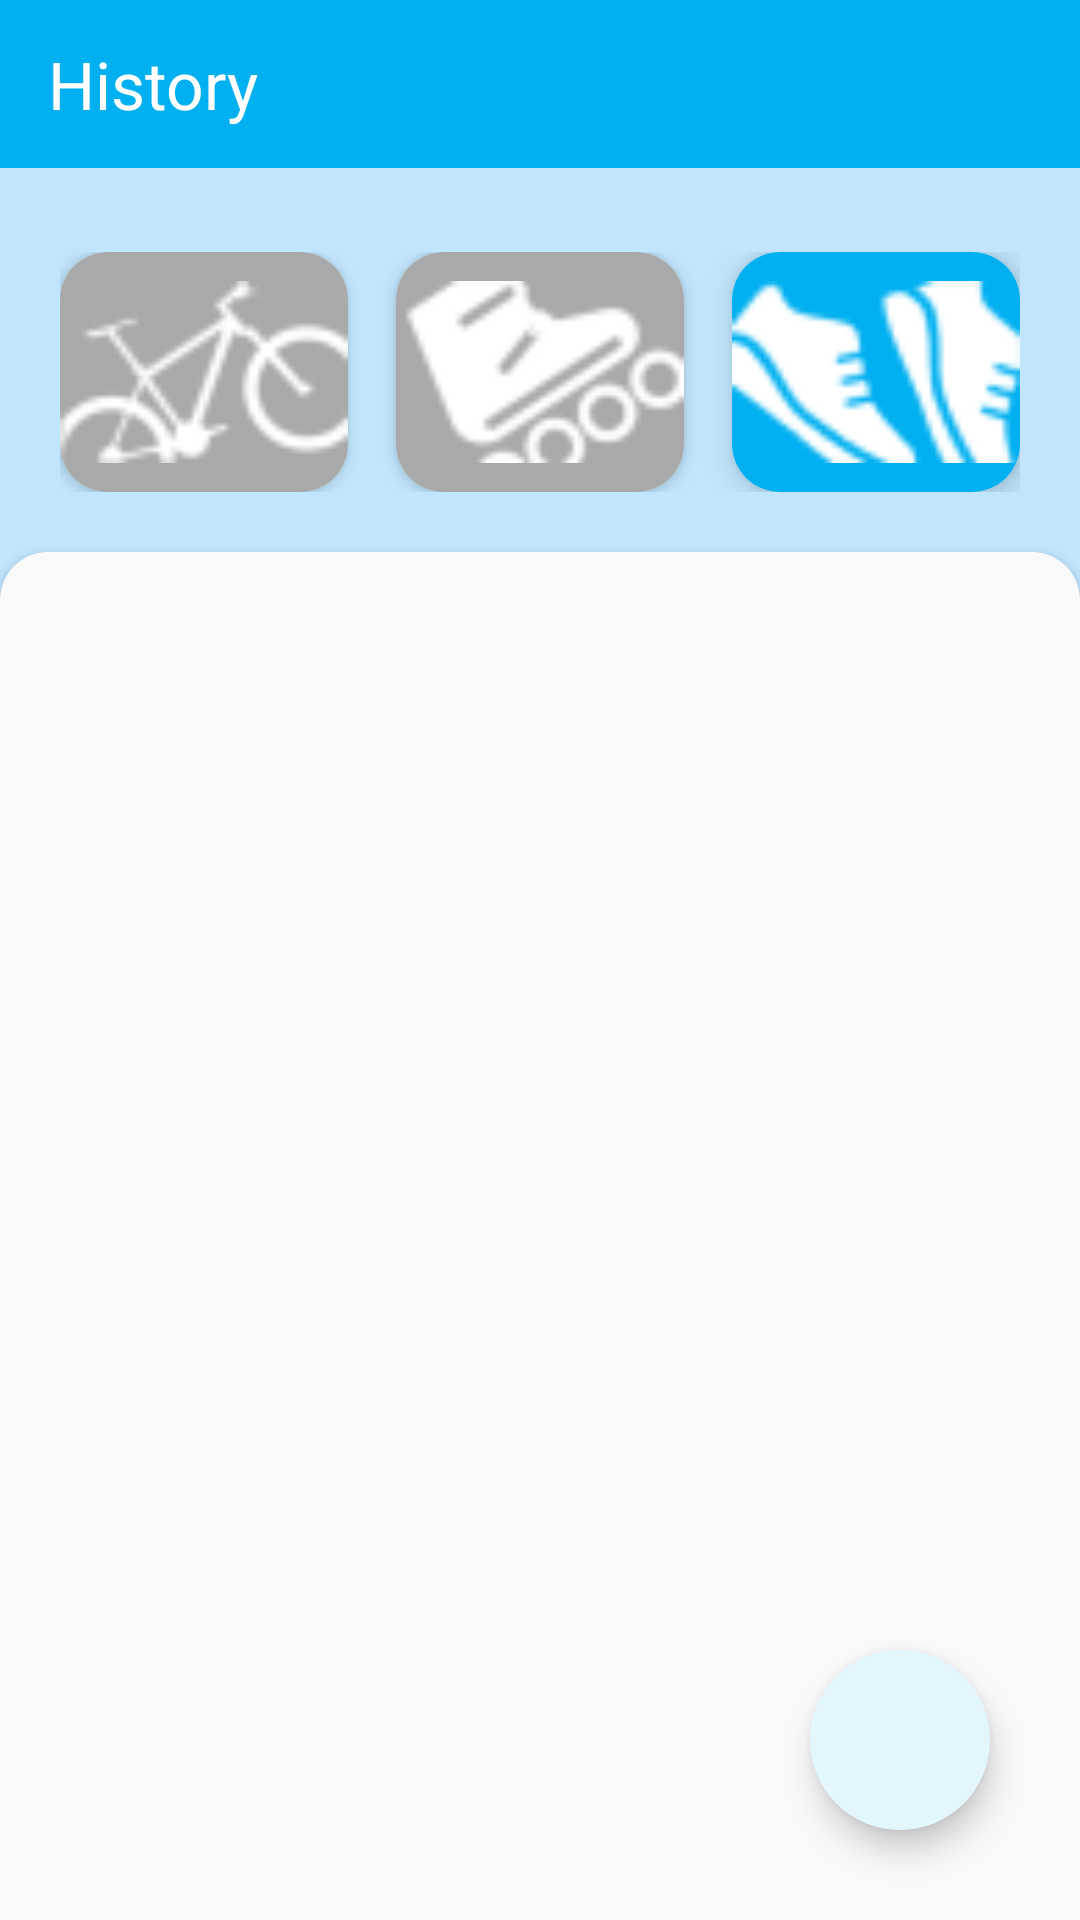

Screen size 1080px×1920px. Icon name, then its box in pixels as Rect(x1, y1, x2, y2):
bike: Rect(60, 252, 348, 492)
rollerskate: Rect(396, 252, 684, 492)
running: Rect(732, 252, 1020, 492)
